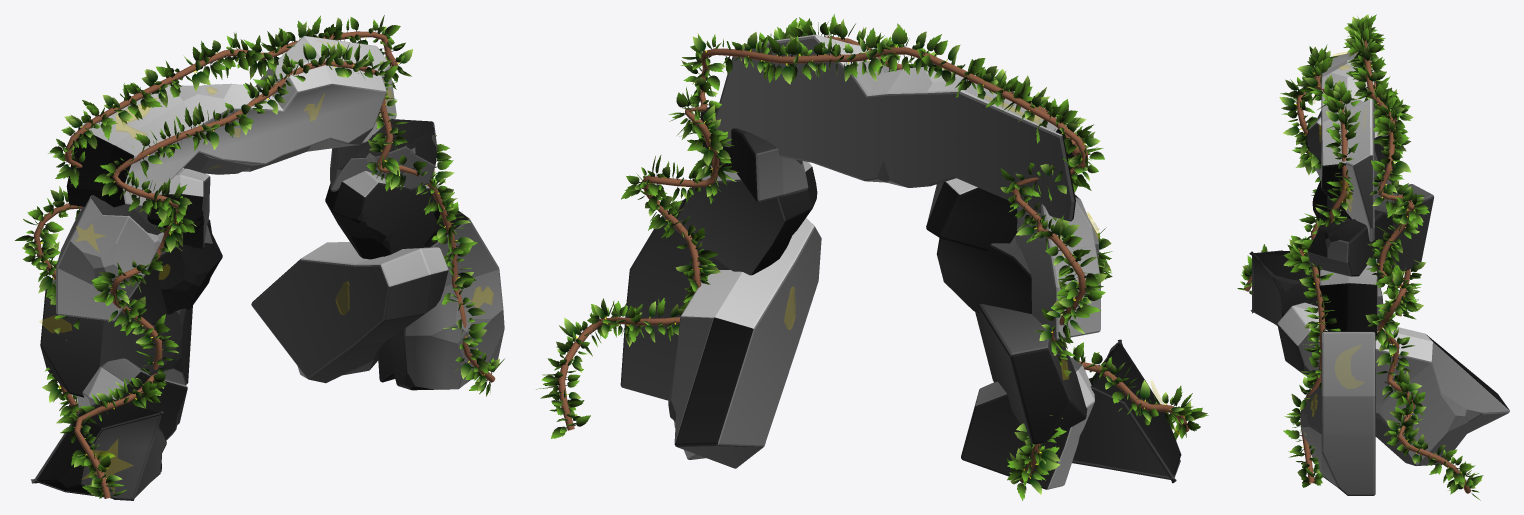
Rendered from gamejam_Assets_Gate.fbx.
The picture shows the model from 3 angles, left to right: view 1: azimuth 30°, elevation 25°; view 2: azimuth 150°, elevation 25°; view 3: azimuth 270°, elevation 25°; orthographic projection. The views are drawn at different scales.
Parts seen in each view (by area): view 1: Stone_Gate, Gate_Vines, Gate_Signs_Glow; view 2: Stone_Gate, Gate_Vines, Gate_Signs_Glow; view 3: Stone_Gate, Gate_Vines, Gate_Signs_Glow.
Boxes of the visible parts, x1,y1,x2,y2 form: Stone_Gate: [31, 36, 504, 500]; Gate_Vines: [15, 15, 504, 498]; Gate_Signs_Glow: [39, 40, 493, 493]; Stone_Gate: [620, 34, 1181, 489]; Gate_Vines: [536, 14, 1208, 500]; Gate_Signs_Glow: [784, 72, 1179, 434]; Stone_Gate: [1249, 43, 1509, 495]; Gate_Vines: [1237, 14, 1483, 500]; Gate_Signs_Glow: [1311, 52, 1365, 416].
Bounding box in the file's own units: 1335 × 1009 × 699.
Materials: 4 (4 with a texture image).
